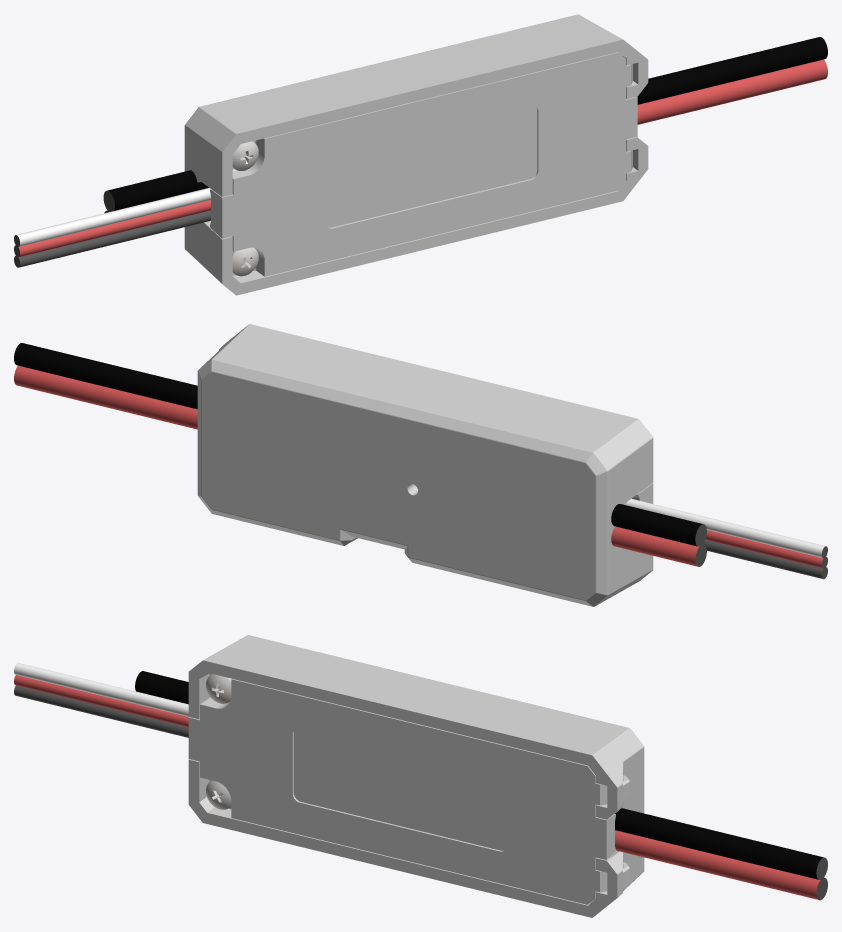
The model's file is model_web.glb.
The picture shows the model from 3 angles, top to bottom: view 1: azimuth 30°, elevation 25°; view 2: azimuth 150°, elevation 25°; view 3: azimuth 330°, elevation 25°; orthographic projection.
Visible parts, largest first — view 1: Node1, Node5, Node2, Node6, Node4, Node3; view 2: Node1, Node2, Node5, Node6, Node4; view 3: Node1, Node2, Node5, Node4, Node6, Node3.
Part boxes in pixels (left/top/right/bottom): Node1: left=184, top=14, right=648, bottom=295; Node5: left=108, top=37, right=827, bottom=210; Node2: left=18, top=59, right=827, bottom=256; Node6: left=17, top=188, right=210, bottom=246; Node4: left=14, top=190, right=210, bottom=267; Node3: left=232, top=141, right=258, bottom=276; Node1: left=197, top=324, right=653, bottom=606; Node2: left=14, top=365, right=823, bottom=568; Node5: left=14, top=343, right=702, bottom=546; Node6: left=625, top=498, right=825, bottom=557; Node4: left=695, top=524, right=827, bottom=579; Node1: left=188, top=635, right=644, bottom=917; Node2: left=14, top=675, right=820, bottom=899; Node5: left=135, top=671, right=823, bottom=879; Node4: left=14, top=685, right=827, bottom=900; Node6: left=14, top=662, right=188, bottom=716; Node3: left=206, top=674, right=231, bottom=809.
Bounding box in the file's own units: 113 × 21.78 × 11.1.
